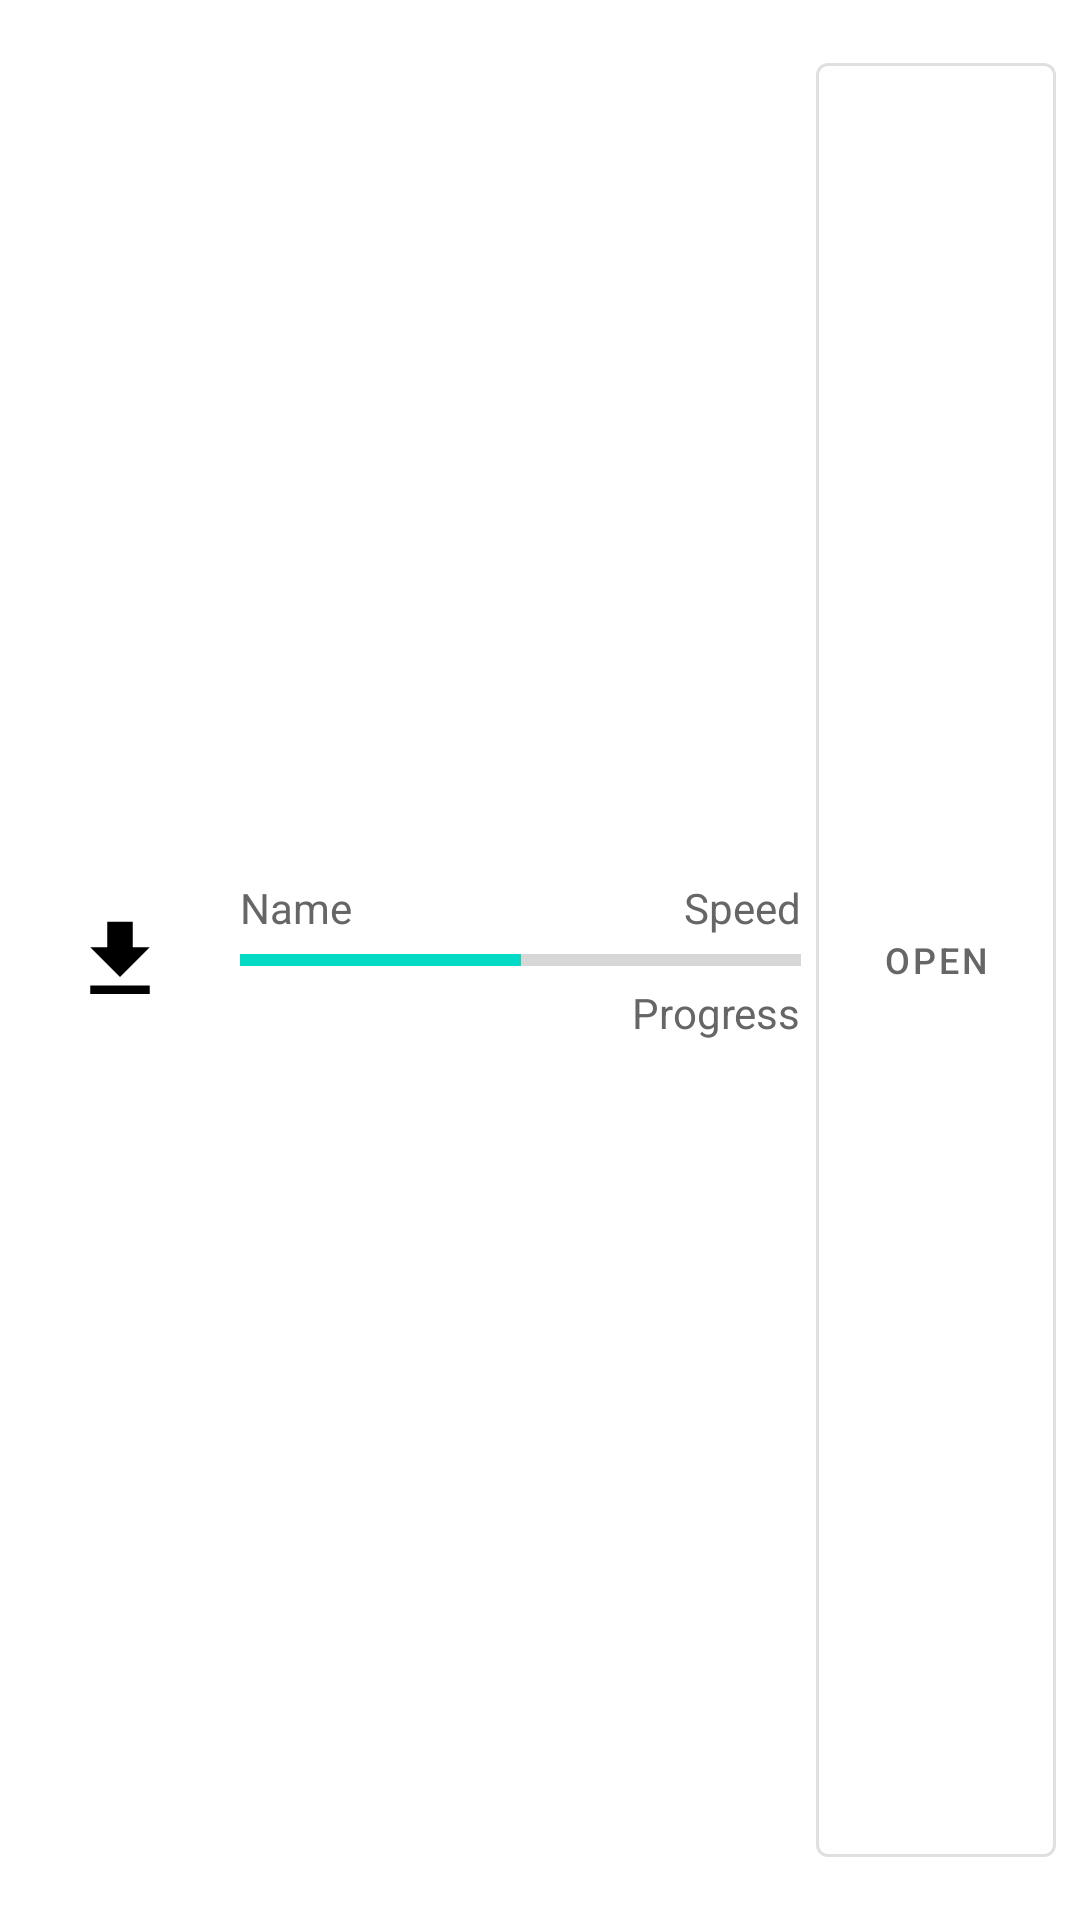

Icons on this 1080px x 1920px Android screen, each with the point to tap as point (x, y):
file download: point (120, 957)
